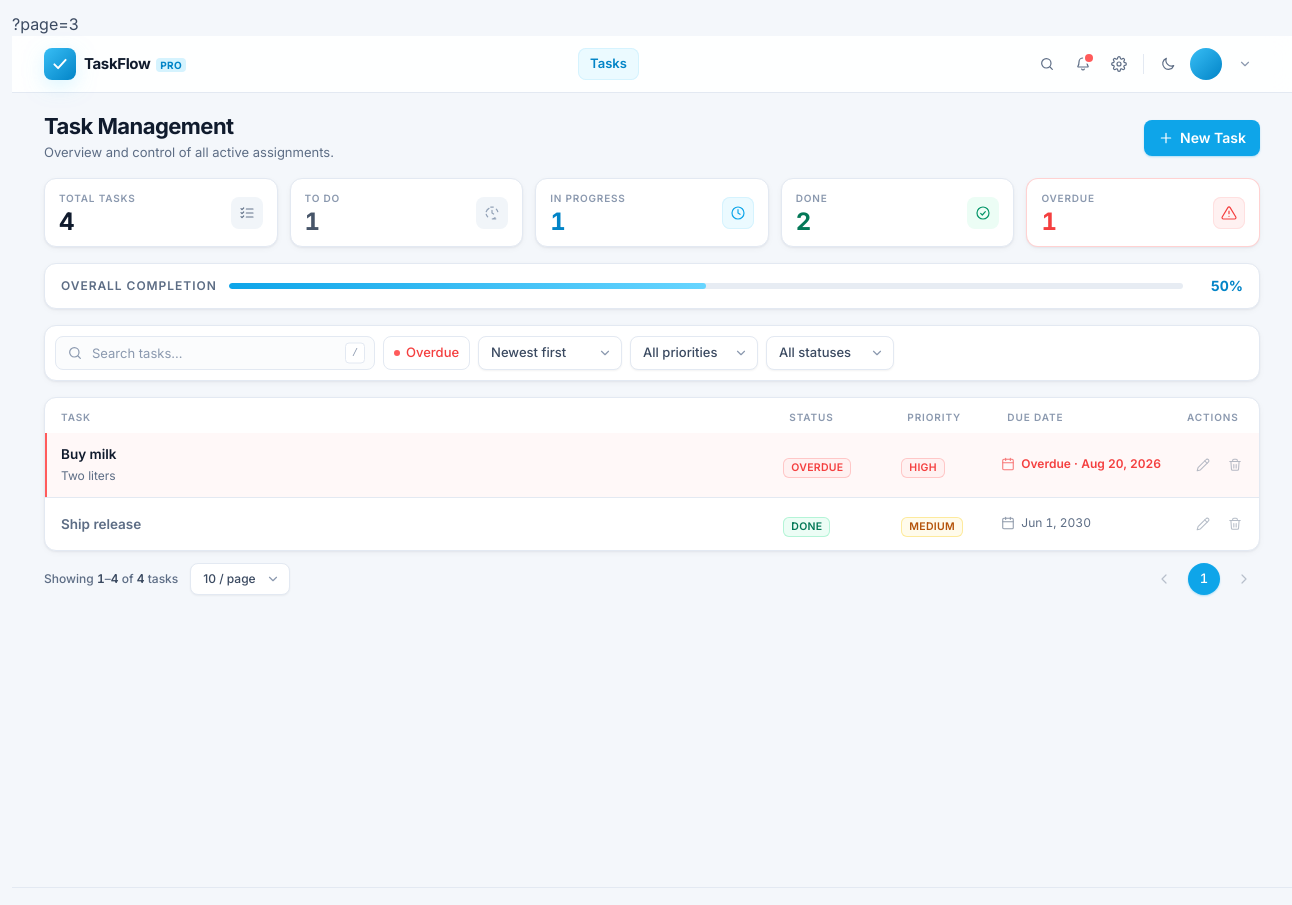
Test: DashboardPage - query interactions › writes the status filter to the URL and resets pagination
This screenshot has width=1292, height=905.
Expected: the heading "Buy milk" is shown, [61,446,116,462]
Select "Done" in the dropdown named "Filter tasks by status" at (830, 353), box [766,336,894,370]
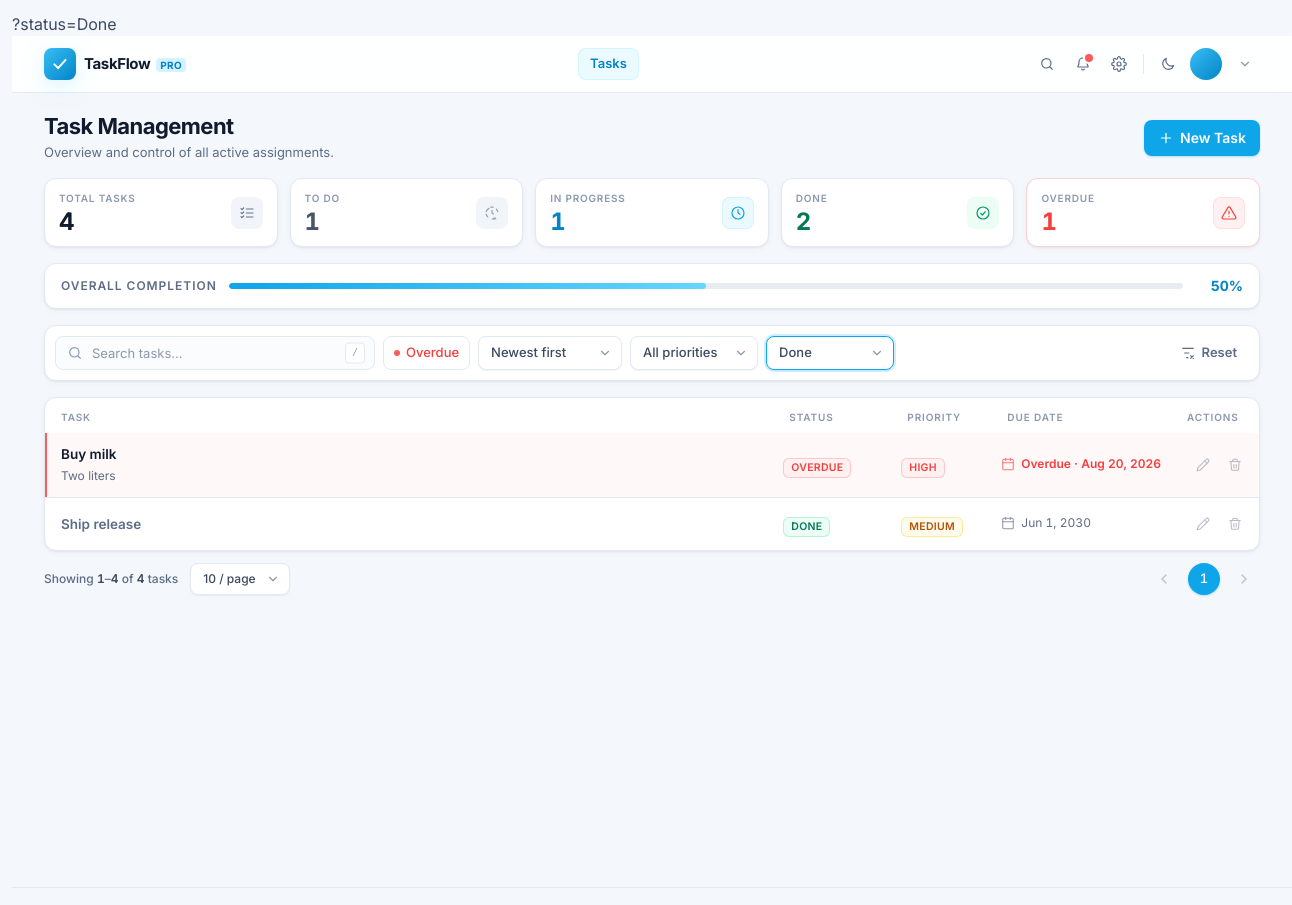
Result: the text with test id "url-probe" shows "status=Done" at [12,14,117,34]
